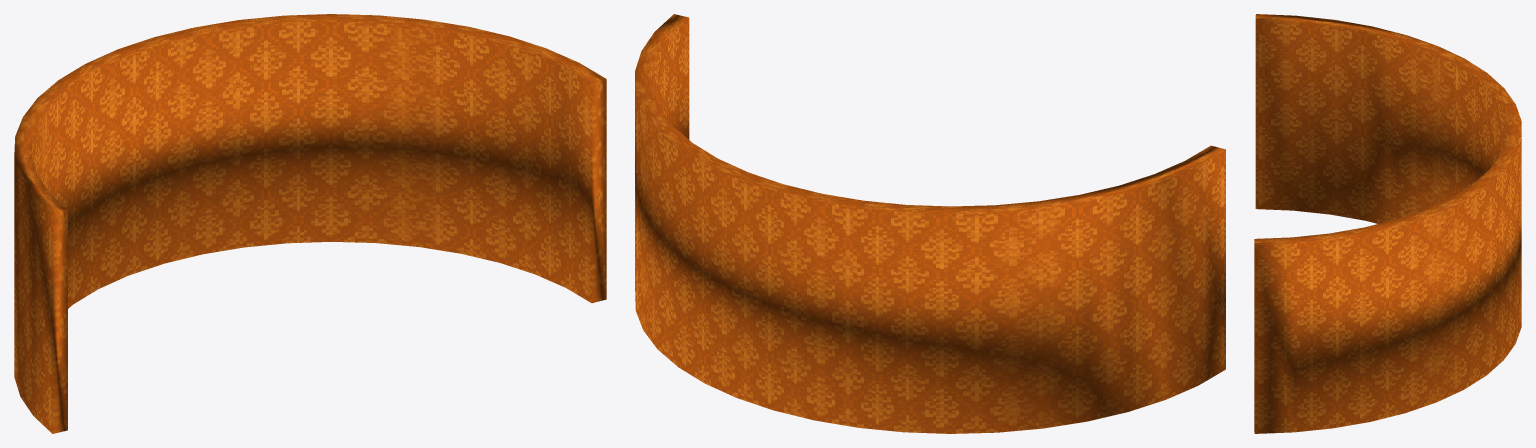
Rendered from murcutscne.glb.
The picture shows the model from 3 angles, left to right: view 1: azimuth 30°, elevation 25°; view 2: azimuth 150°, elevation 25°; view 3: azimuth 270°, elevation 25°; orthographic projection. The views are drawn at different scales.
Visible parts, largest first — view 1: Cube; view 2: Cube; view 3: Cube.
Boxes of the visible parts, x1=… form: Cube: x1=14, y1=14, x2=606, y2=433; Cube: x1=635, y1=14, x2=1225, y2=433; Cube: x1=1254, y1=14, x2=1521, y2=433.
Bounding box in the file's own units: 22.43 × 8.54 × 10.96.
1 material, 1 textured.
